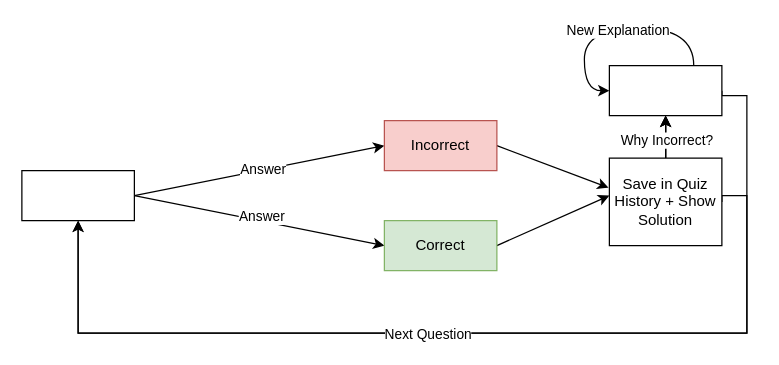
Image size: 779x365. Some labels were removed from this diagram. The centre of each missing label's shape, as x and y in pixels:
"Get Explanation" goes at (665,90).
"Show Question" goes at (77,195).
